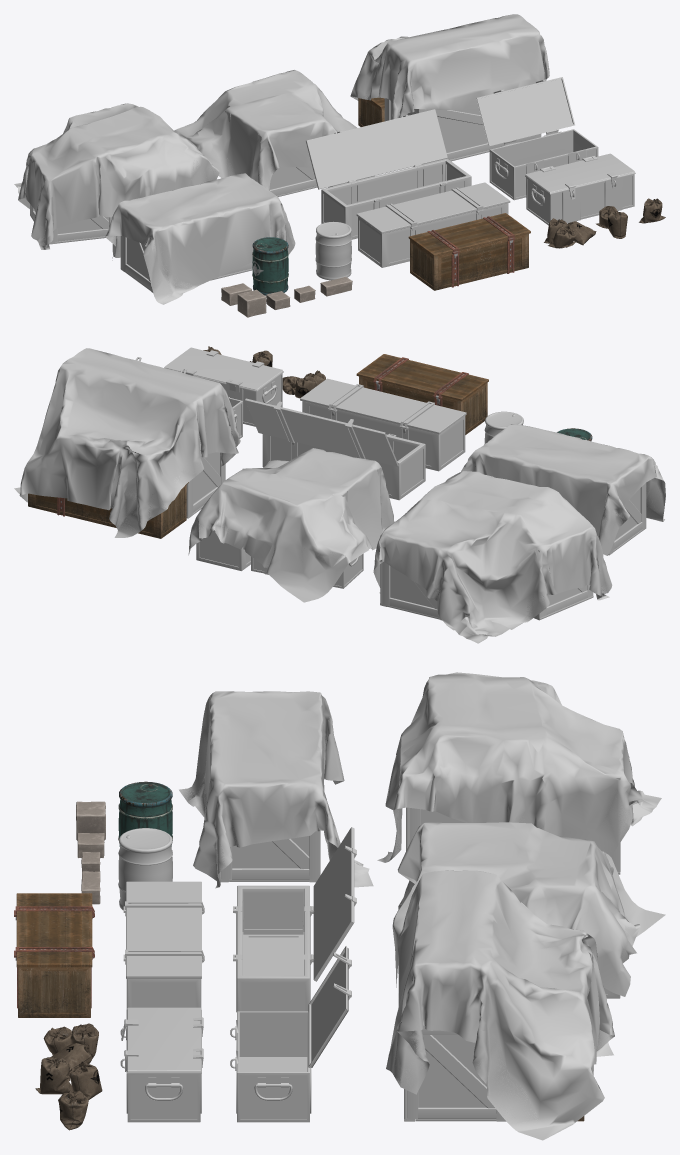
Rendered from crates_set.fbx.
The picture shows the model from 3 angles, top to bottom: view 1: azimuth 30°, elevation 25°; view 2: azimuth 150°, elevation 25°; view 3: azimuth 270°, elevation 25°; orthographic projection. The views are drawn at different scales.
Visible parts, largest first — view 1: ind_wooden_crates_03_tarp, ind_wooden_crates_04_tarp, ind_wooden_crates_01_tarp, ind_wooden_crates_02_tarp, ind_crate_03_open, ind_metal_crate_01_open, ind_crate_03_worn, ind_crate_03_closed, ind_metal_crate_01, ind_barrel_01, ind_barrel_02, prop_sack_03 (+4 smaller); view 2: ind_wooden_crates_04_tarp, ind_wooden_crates_03_tarp, ind_wooden_crates_02_tarp, ind_wooden_crates_01_tarp, ind_crate_03_open, ind_crate_03_closed, ind_crate_03_worn, ind_metal_crate_01, prop_sack_03, ind_barrel_01; view 3: ind_wooden_crates_04_tarp, ind_wooden_crates_03_tarp, ind_wooden_crates_01_tarp, ind_wooden_crates_02_tarp, ind_crate_03_open, ind_metal_crate_01_open, ind_crate_03_closed, ind_crate_03_worn, ind_metal_crate_01, ind_barrel_01, ind_barrel_02, prop_sack_02 (+3 smaller).
Boxes of the visible parts, x1,y1,x2,y2 form: ind_wooden_crates_03_tarp: (14,103,219,249); ind_wooden_crates_04_tarp: (350,14,549,164); ind_wooden_crates_01_tarp: (105,173,295,304); ind_wooden_crates_02_tarp: (174,70,374,196); ind_crate_03_open: (306,109,471,239); ind_metal_crate_01_open: (476,77,598,200); ind_crate_03_worn: (408,213,530,290); ind_crate_03_closed: (356,182,510,267); ind_metal_crate_01: (525,153,635,225); ind_barrel_01: (315,221,351,280); ind_barrel_02: (252,237,288,295); prop_sack_03: (544,218,596,248); ind_wooden_crates_04_tarp: (14,348,240,538); ind_wooden_crates_03_tarp: (373,471,612,643); ind_wooden_crates_02_tarp: (188,448,394,602); ind_wooden_crates_01_tarp: (461,424,665,555); ind_crate_03_open: (245,398,425,500); ind_crate_03_closed: (300,378,466,471); ind_crate_03_worn: (356,354,488,434); ind_metal_crate_01: (164,347,283,426); prop_sack_03: (282,370,325,398); ind_barrel_01: (484,411,523,443); ind_wooden_crates_04_tarp: (386,870,614,1140); ind_wooden_crates_03_tarp: (377,672,661,874); ind_wooden_crates_01_tarp: (179,691,373,888); ind_wooden_crates_02_tarp: (392,822,665,998); ind_crate_03_open: (233,827,356,1012); ind_metal_crate_01_open: (230,946,351,1122); ind_crate_03_closed: (123,881,204,1009); ind_crate_03_worn: (14,893,94,1017); ind_metal_crate_01: (120,1007,203,1122); ind_barrel_01: (118,828,172,910); ind_barrel_02: (118,781,172,846); prop_sack_02: (35,1057,102,1099).
Size of the model in its own units: 12.26 by 2.44 by 8.93.
